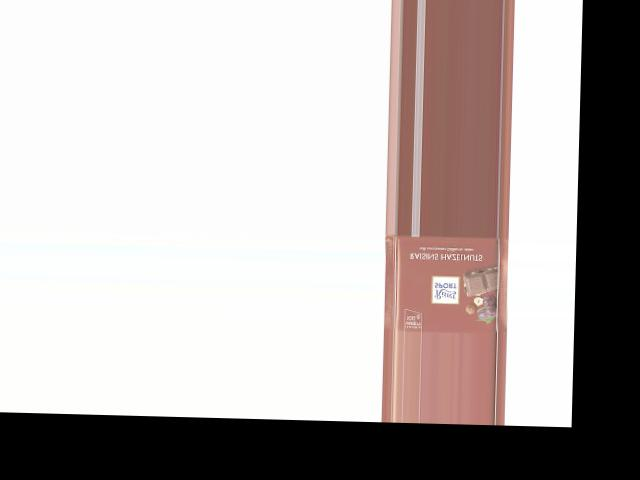chocolate: (383, 234, 511, 334)
